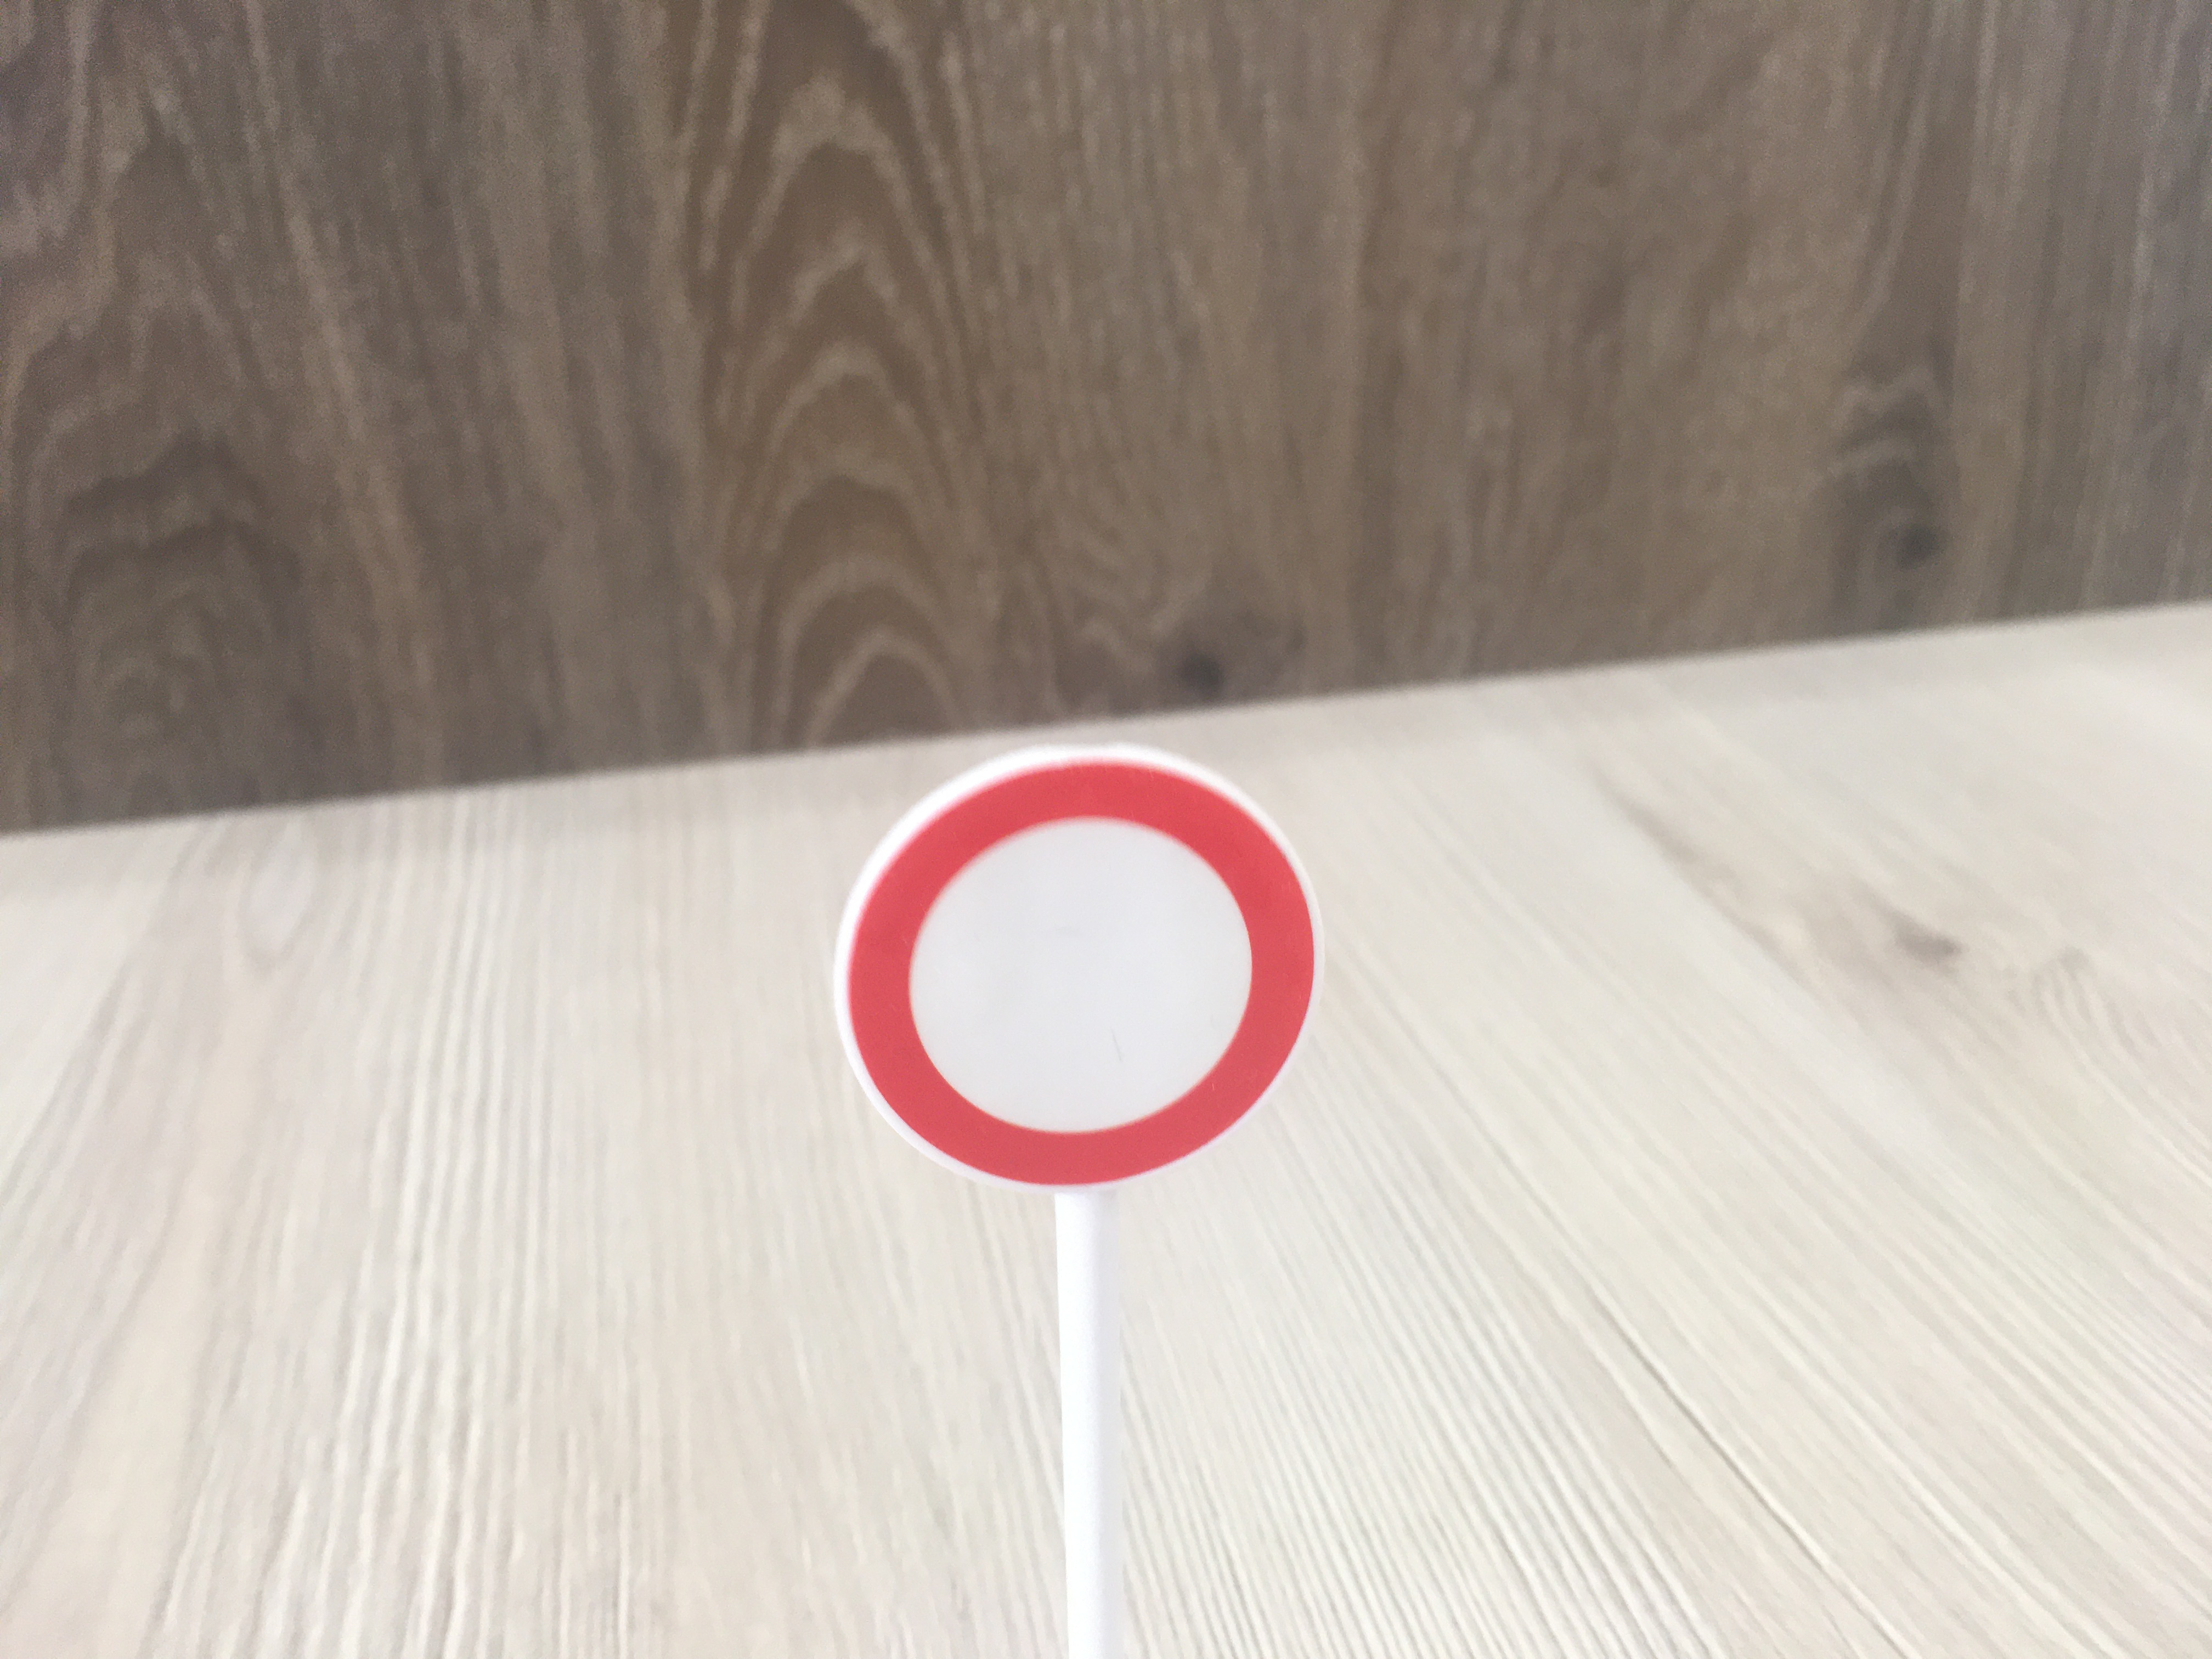noDrive: (826, 744, 1325, 1216)
